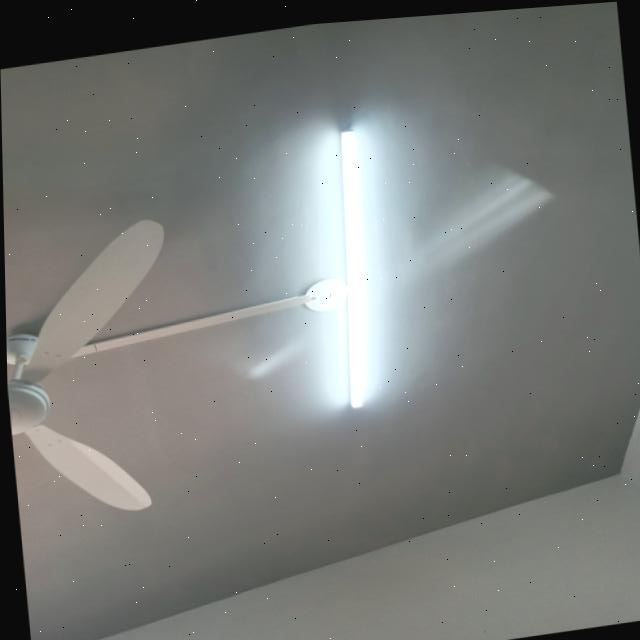fluorescent tube: (312, 114, 389, 416)
